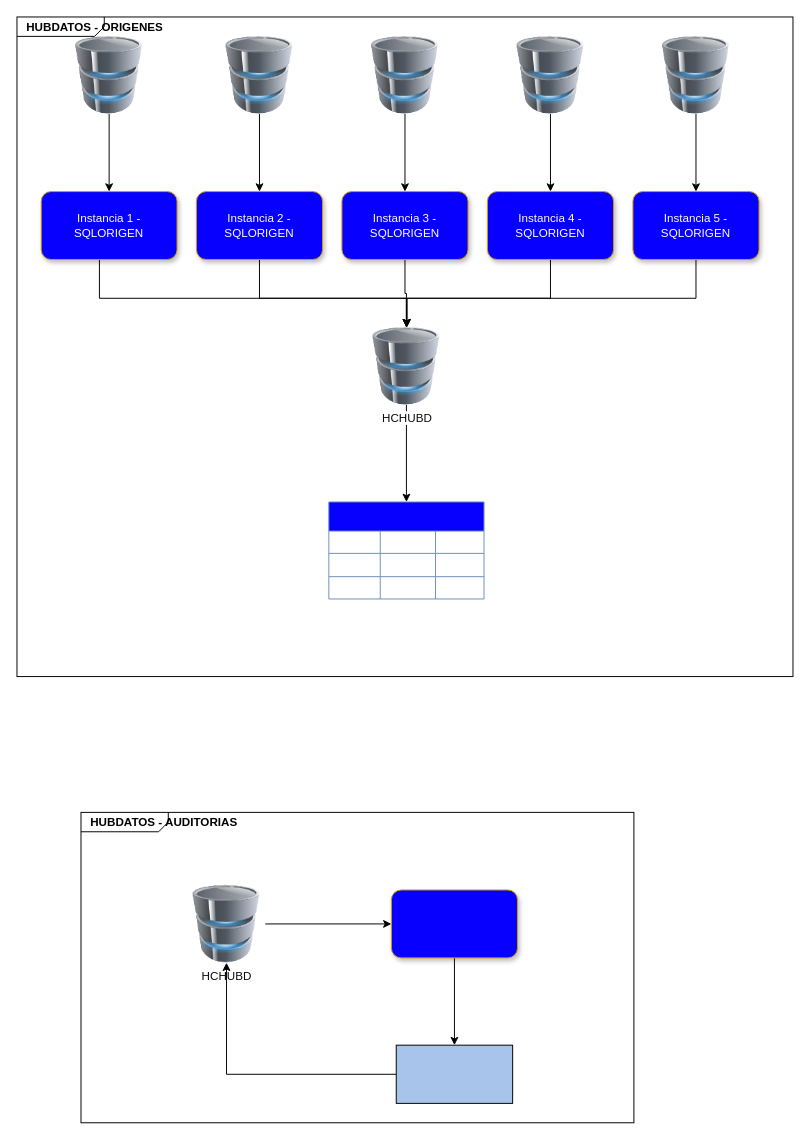
The diagram is 810 pixels wide and 1140 high, and some of its shapes have lost their labels. The centre of each missing label's shape, as x and y in pixels:
"CAMBIOEXTRACCION" goes at point 406,550.
"Instancia 0 - SQLHUB" goes at point 455,925.
"Procesa los diferentes flujos de auditoria en la tabla SQLHUB" goes at point 454,1073.
